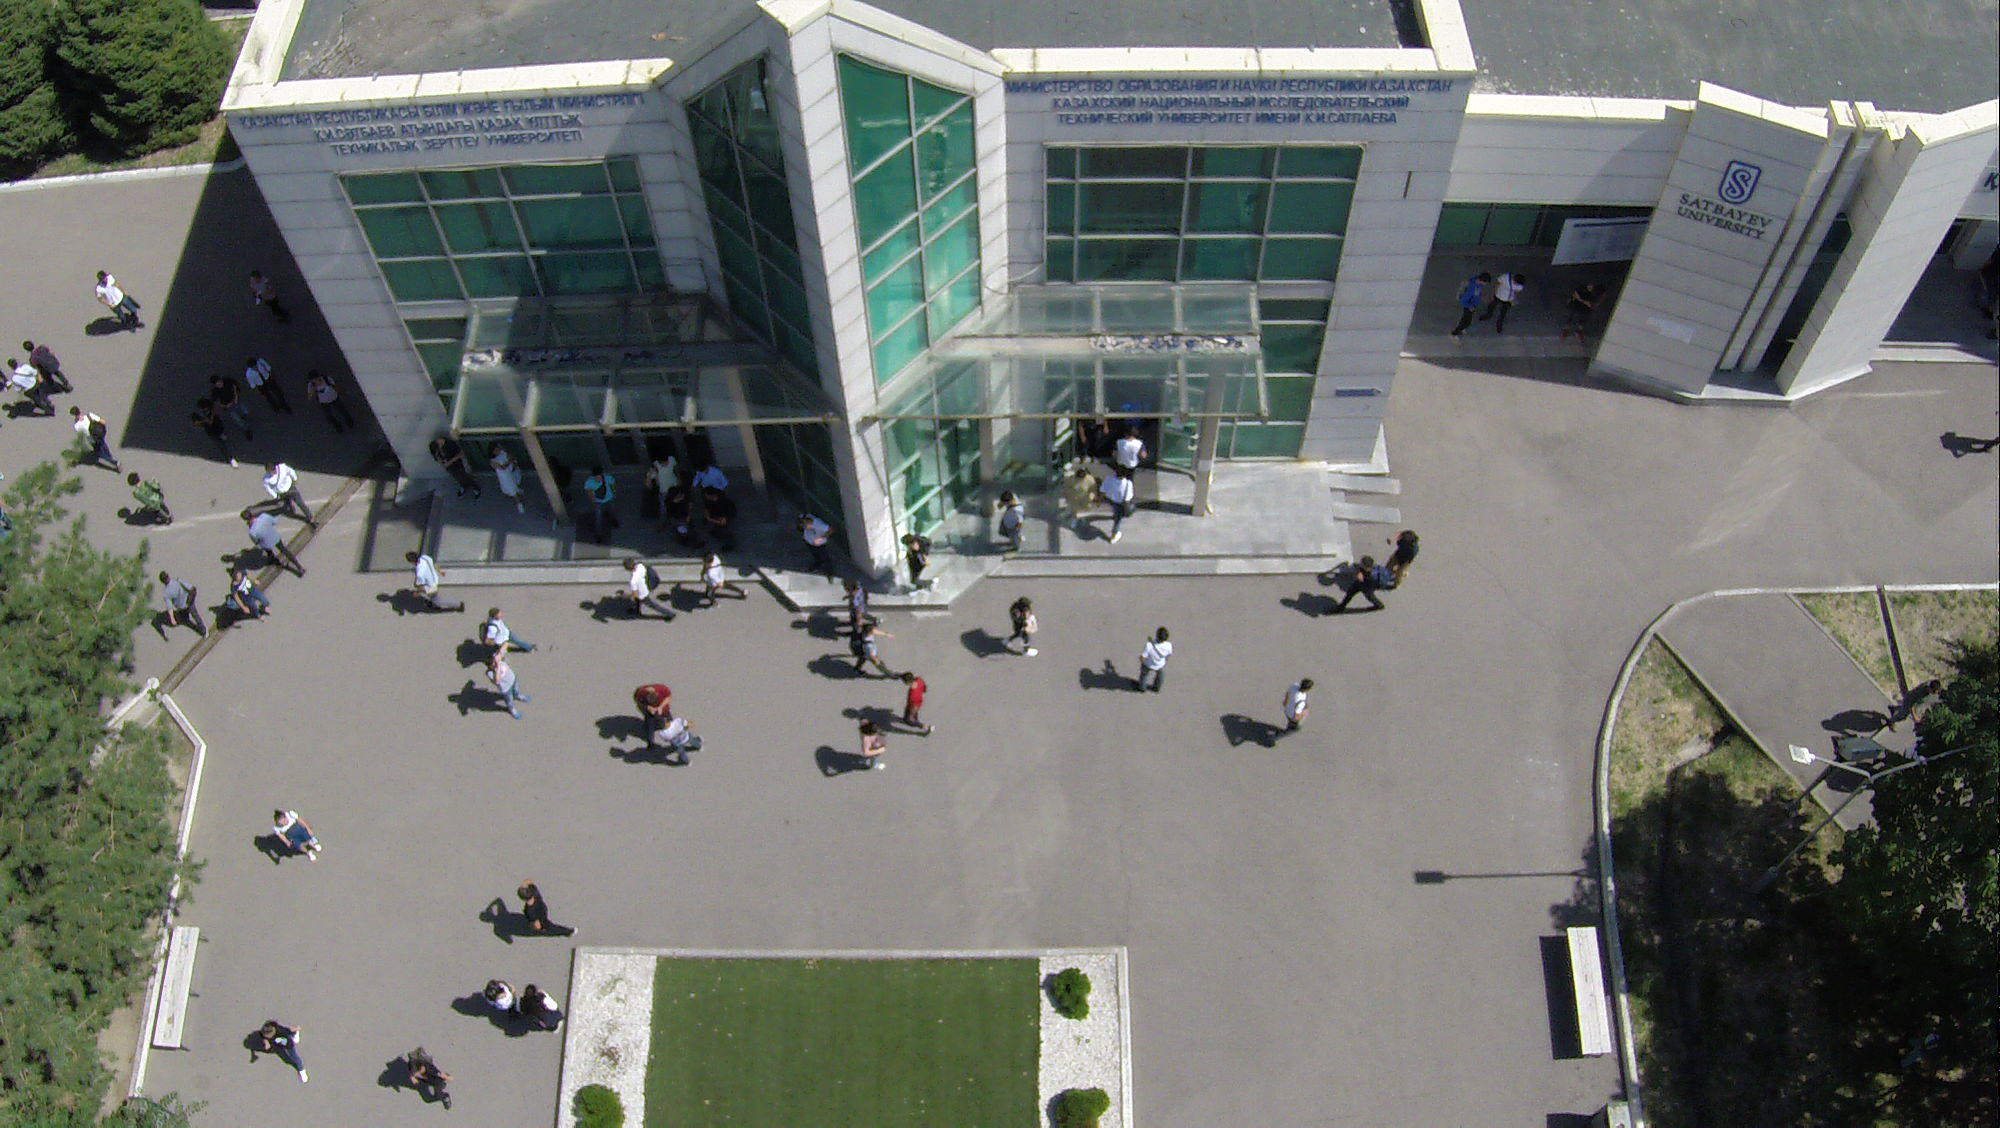person: (512, 878, 580, 942), (617, 558, 678, 625), (477, 600, 545, 661), (258, 458, 317, 527), (407, 548, 468, 612), (242, 512, 303, 575), (476, 652, 531, 723), (428, 436, 483, 503), (93, 265, 147, 333), (305, 368, 356, 436), (696, 552, 751, 614), (404, 1046, 453, 1111), (197, 398, 242, 470), (653, 713, 709, 770), (1336, 554, 1387, 616), (7, 356, 55, 420), (1452, 269, 1493, 344), (269, 806, 324, 861), (259, 1019, 308, 1081), (1058, 462, 1097, 536), (797, 509, 836, 581), (221, 567, 274, 623), (25, 338, 76, 395), (123, 469, 172, 527), (1486, 268, 1527, 336), (246, 269, 292, 330), (246, 356, 292, 416), (74, 408, 119, 470), (488, 445, 528, 515), (851, 622, 899, 682), (1098, 464, 1135, 538), (212, 374, 253, 439), (519, 981, 564, 1037), (1136, 622, 1172, 694), (897, 670, 936, 736), (586, 466, 619, 542), (702, 487, 741, 550), (1569, 278, 1604, 344), (1006, 596, 1042, 660), (1382, 532, 1421, 592), (1280, 674, 1315, 740), (992, 487, 1025, 555), (843, 580, 885, 633), (480, 975, 520, 1028), (854, 716, 889, 773), (664, 487, 696, 539), (632, 681, 672, 719), (1115, 428, 1146, 475), (647, 452, 677, 490), (695, 462, 728, 492)
